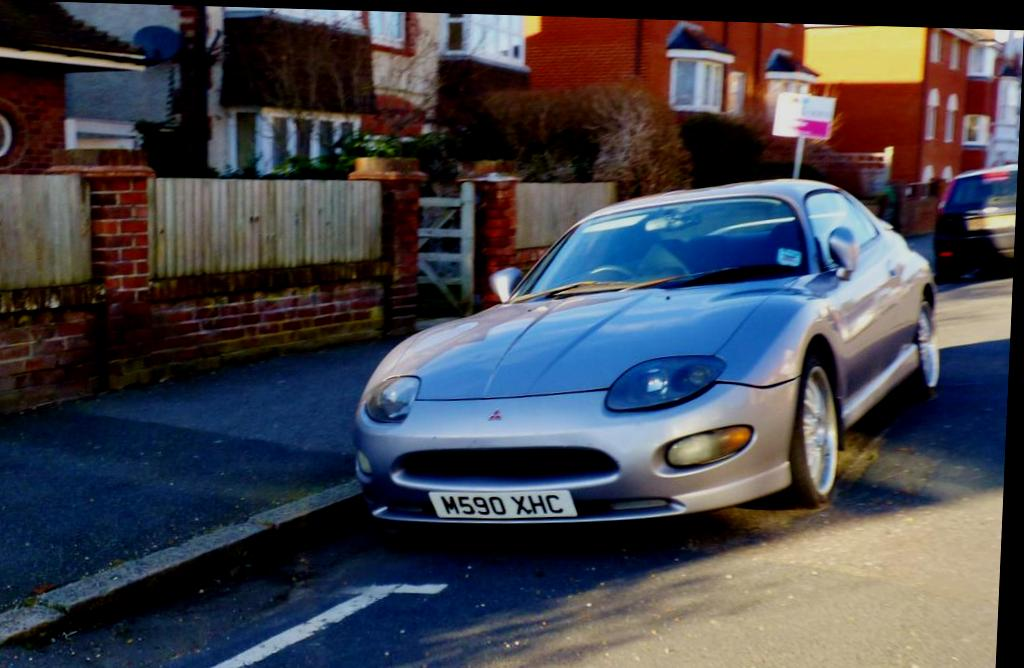License_Plate: (428, 484, 580, 523), (966, 212, 1016, 232)
